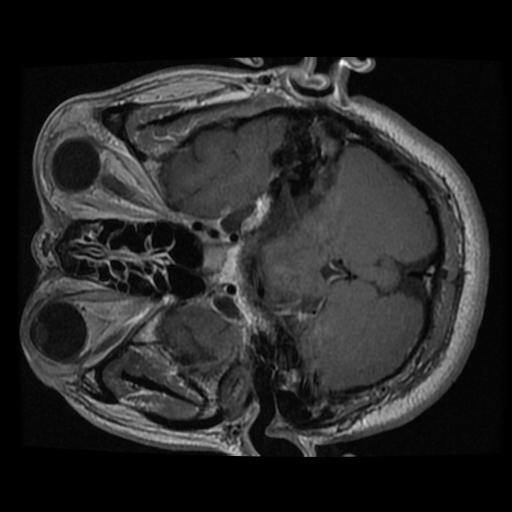pituitary tumour: (200, 243, 244, 284)
